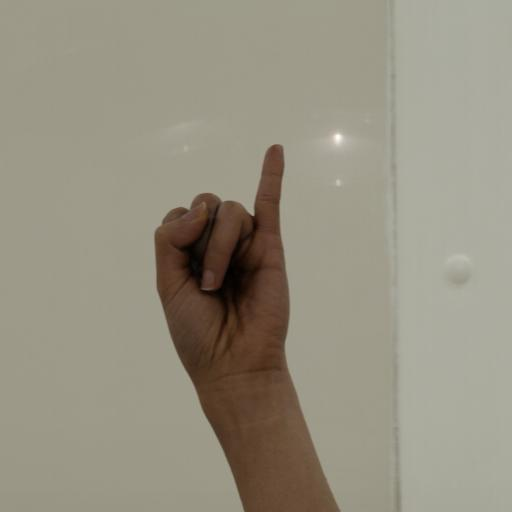I: (129, 136, 319, 393)
